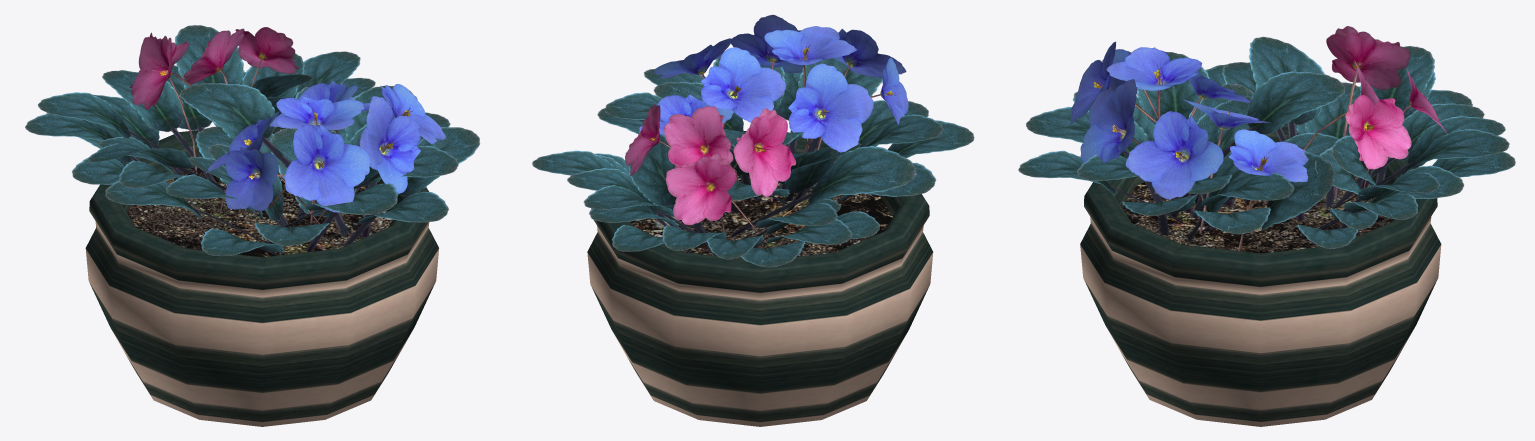
The model's file is flower.glb.
The picture shows the model from 3 angles, left to right: view 1: azimuth 30°, elevation 25°; view 2: azimuth 150°, elevation 25°; view 3: azimuth 270°, elevation 25°; orthographic projection. The views are drawn at different scales.
Visible parts, largest first — view 1: maceta, Cylinder.001, Cylinder.002, Plane.009, Cylinder.007, Plane.027, Cylinder, Cylinder.008, Plane.026, Cylinder.011, Plane.032, Plane.005 (+28 smaller); view 2: maceta, Cylinder.004, Plane.018, Cylinder.005, Cylinder.009, Cylinder.008, Cylinder.010, Cylinder, Plane.033, Cylinder.002, Cylinder.001, Plane.010 (+27 smaller); view 3: maceta, Cylinder.003, Plane.009, Cylinder.008, Cylinder.011, Cylinder.002, Cylinder.006, Cylinder, Plane.018, Plane.015, Plane.032, Plane.026 (+31 smaller).
Boxes of the visible parts, x1,y1,x2,y2 form: maceta: (85,127,438,426); Cylinder.001: (268,124,370,212); Cylinder.002: (314,96,420,224); Plane.009: (179,83,290,167); Cylinder.007: (224,147,284,210); Plane.027: (102,70,223,191); Cylinder: (275,96,364,223); Cylinder.008: (131,32,192,109); Plane.026: (38,92,198,173); Cylinder.011: (219,27,299,214); Plane.032: (174,25,244,88); Plane.005: (343,127,480,245); maceta: (587,131,933,426); Cylinder.004: (788,63,873,152); Plane.018: (731,146,915,237); Cylinder.005: (700,47,786,128); Cylinder.009: (665,154,736,239); Cylinder.008: (710,108,796,226); Cylinder.010: (663,106,745,204); Cylinder: (764,26,856,148); Plane.033: (629,134,716,255); Cylinder.002: (731,14,808,201); Cylinder.001: (817,29,906,150); Plane.010: (794,114,943,194); maceta: (1080,125,1441,426); Cylinder.003: (1125,111,1223,228); Plane.009: (1222,71,1345,157); Cylinder.008: (1326,26,1410,200); Cylinder.011: (1345,95,1411,169); Cylinder.002: (1080,79,1204,224); Cylinder.006: (1228,129,1308,250); Cylinder: (1106,47,1202,120); Plane.018: (1249,36,1324,220); Plane.015: (1245,151,1334,234); Plane.032: (1324,129,1509,214); Plane.026: (1359,46,1434,188).
Bounding box in the file's own units: 0.2296 × 0.204 × 0.2838.
Materials: 1 (1 with a texture image).
